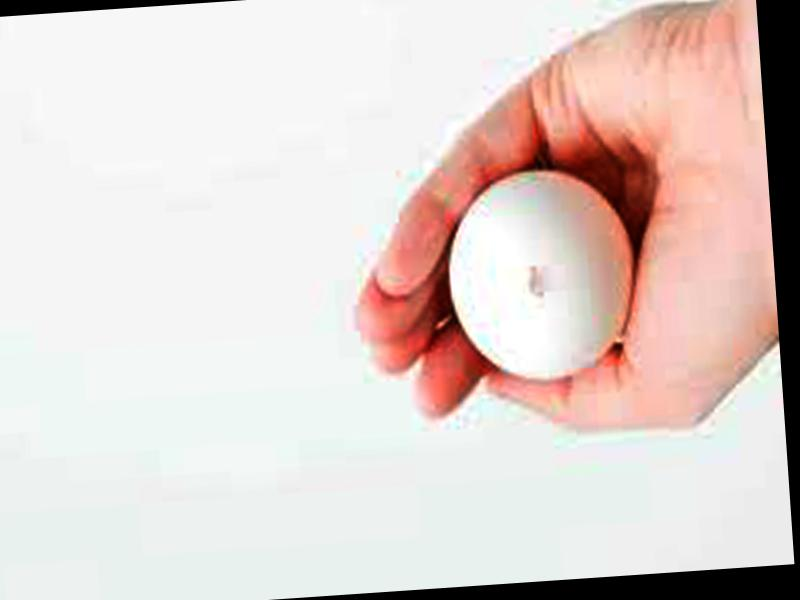Eggs: (442, 167, 638, 379)
